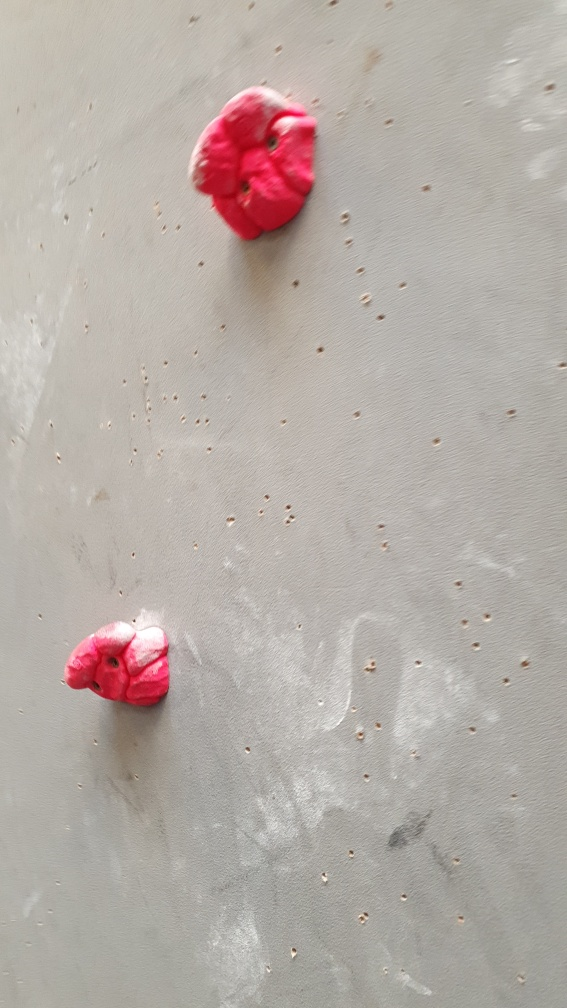Jug: (186, 81, 317, 244), (63, 617, 175, 709)
